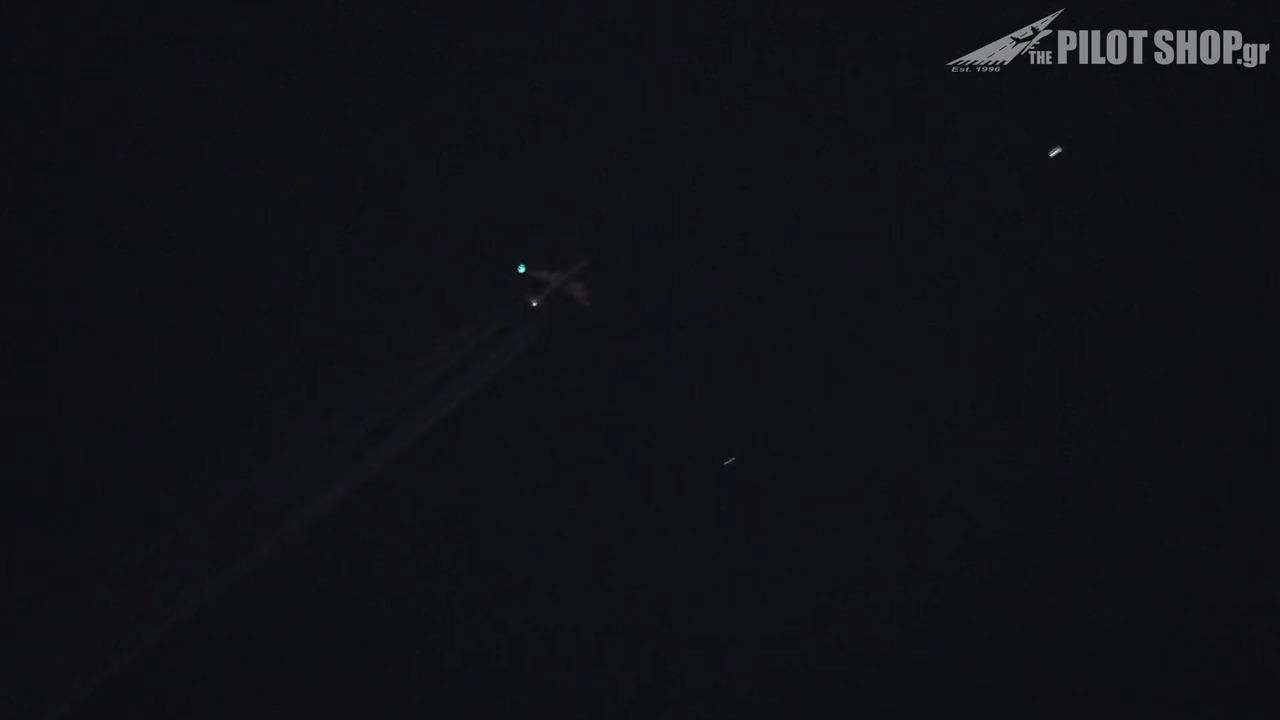Plane: (420, 219, 604, 411)
